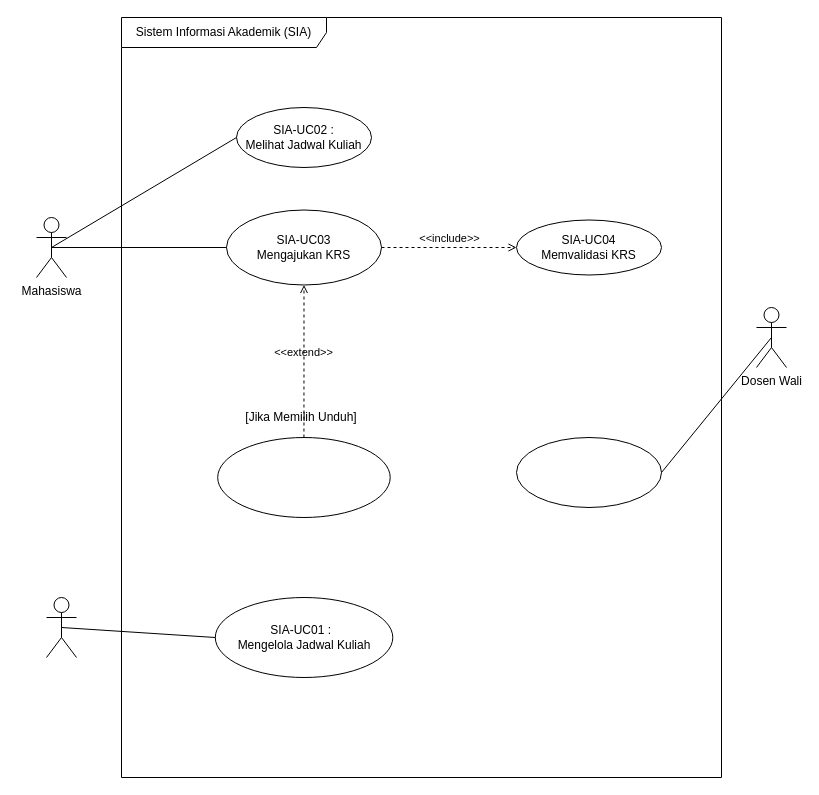
The diagram is 819 pixels wide and 795 high, and some of its shapes have lost their labels. Here are the shapes that lost their labels. From the top down, the box of each, then its label:
(217, 436, 390, 518): SIA-UC05 : Unduh Bukti Pengajuan KRS
(516, 436, 662, 508): SIA-UC06 : Memproses Keputusan KRS
(46, 596, 76, 658): Admin Akademik
